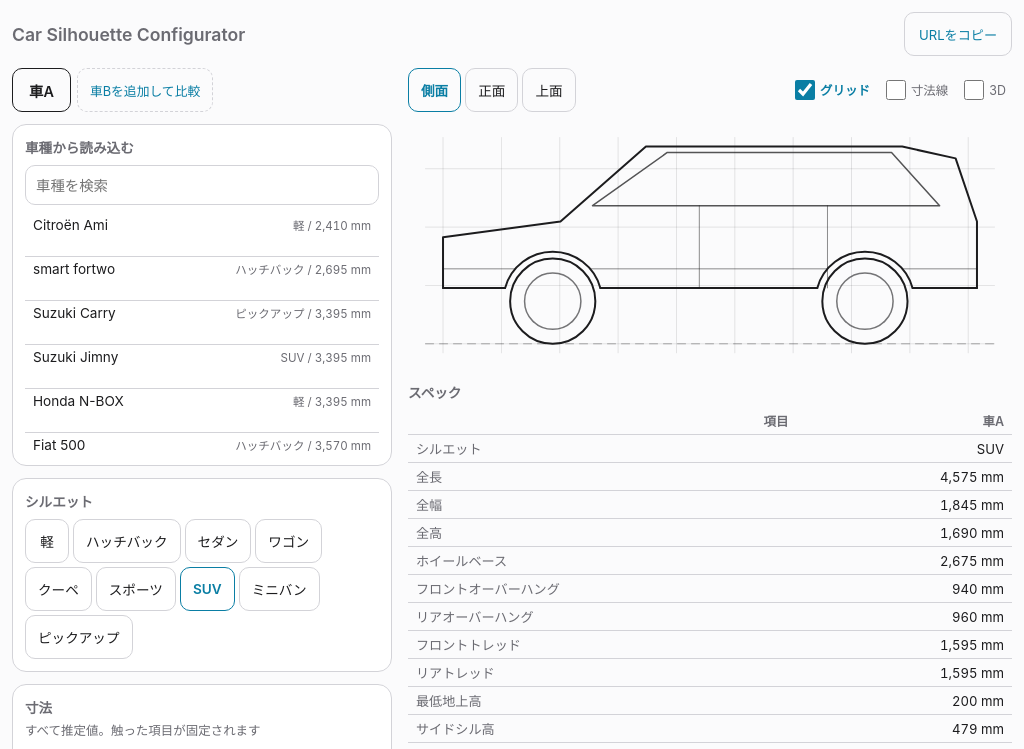
Test case: App 2台比較 › 並置モードでは基準点の選択を出さない
Click the button "車Bを追加して比較". click: (145, 90)
box: 77,68 -> 213,112
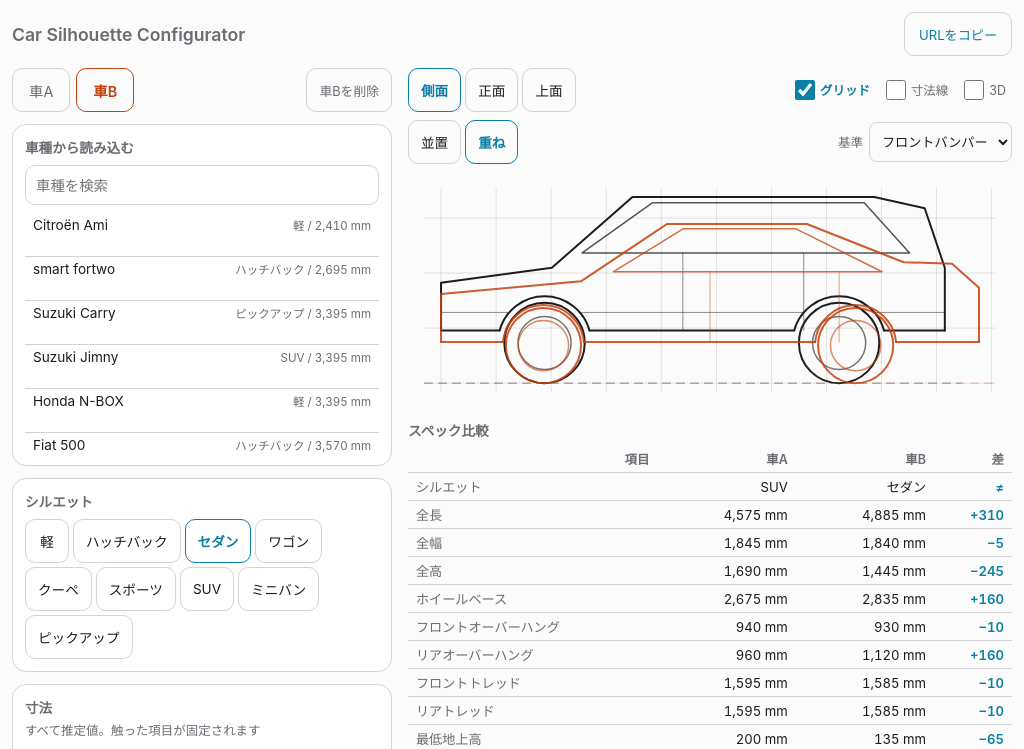
Click the button "並置". click: (435, 142)
box: 408,120 -> 461,164
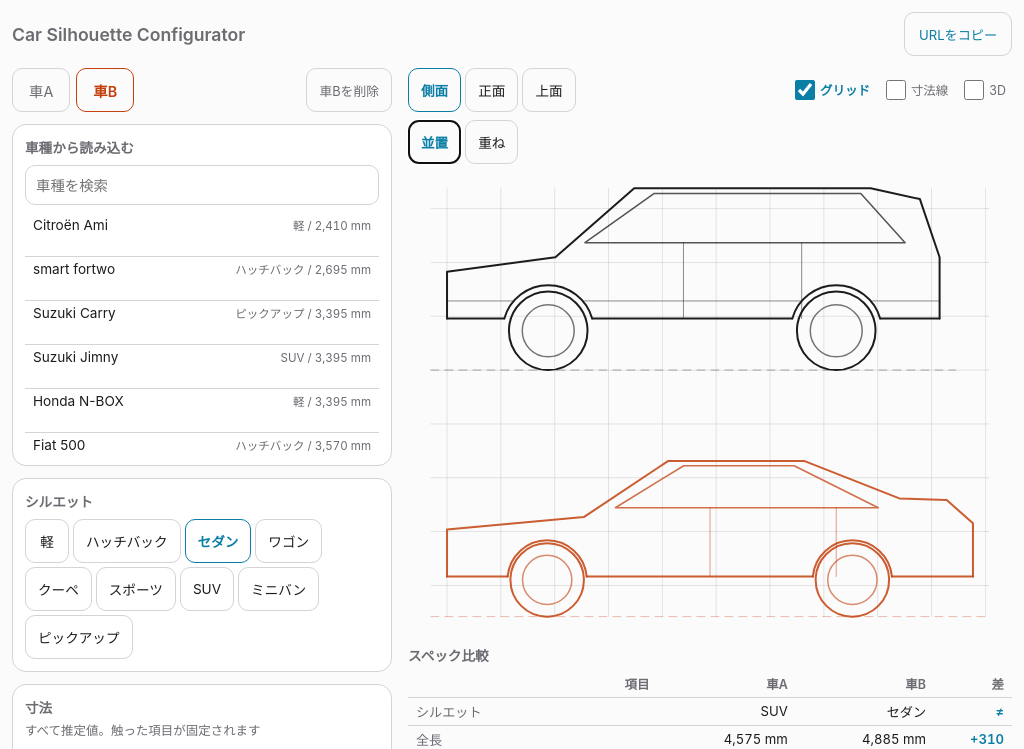
Now the dropdown labelled "重ねる基準点" is gone
